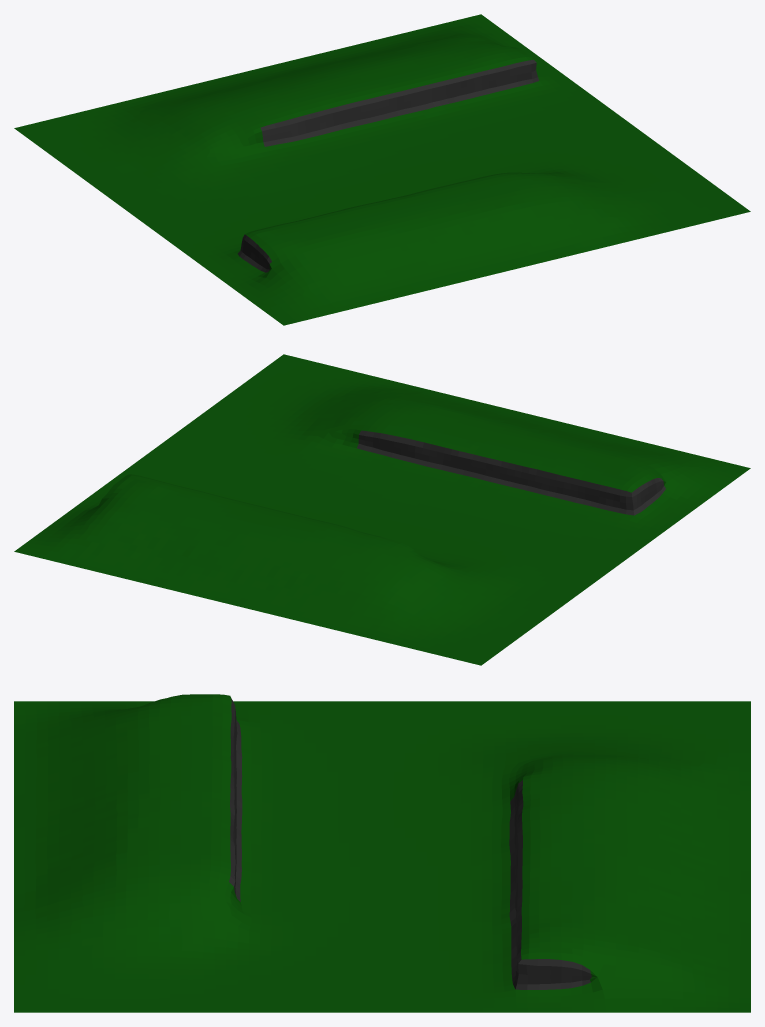
File: Landscape 2.fbx
3 views of the same model, one above another, from view 1: azimuth 30°, elevation 25°; view 2: azimuth 150°, elevation 25°; view 3: azimuth 270°, elevation 25° (orthographic). The views are drawn at different scales.
Visible parts, largest first — view 1: Плоскость; view 2: Плоскость; view 3: Плоскость.
Part boxes in pixels (x1,y1,x2,y2): Плоскость: [14, 14, 750, 325]; Плоскость: [14, 354, 750, 665]; Плоскость: [14, 694, 750, 1012].
Size of the model in its own units: 20003 by 1166 by 20001.
